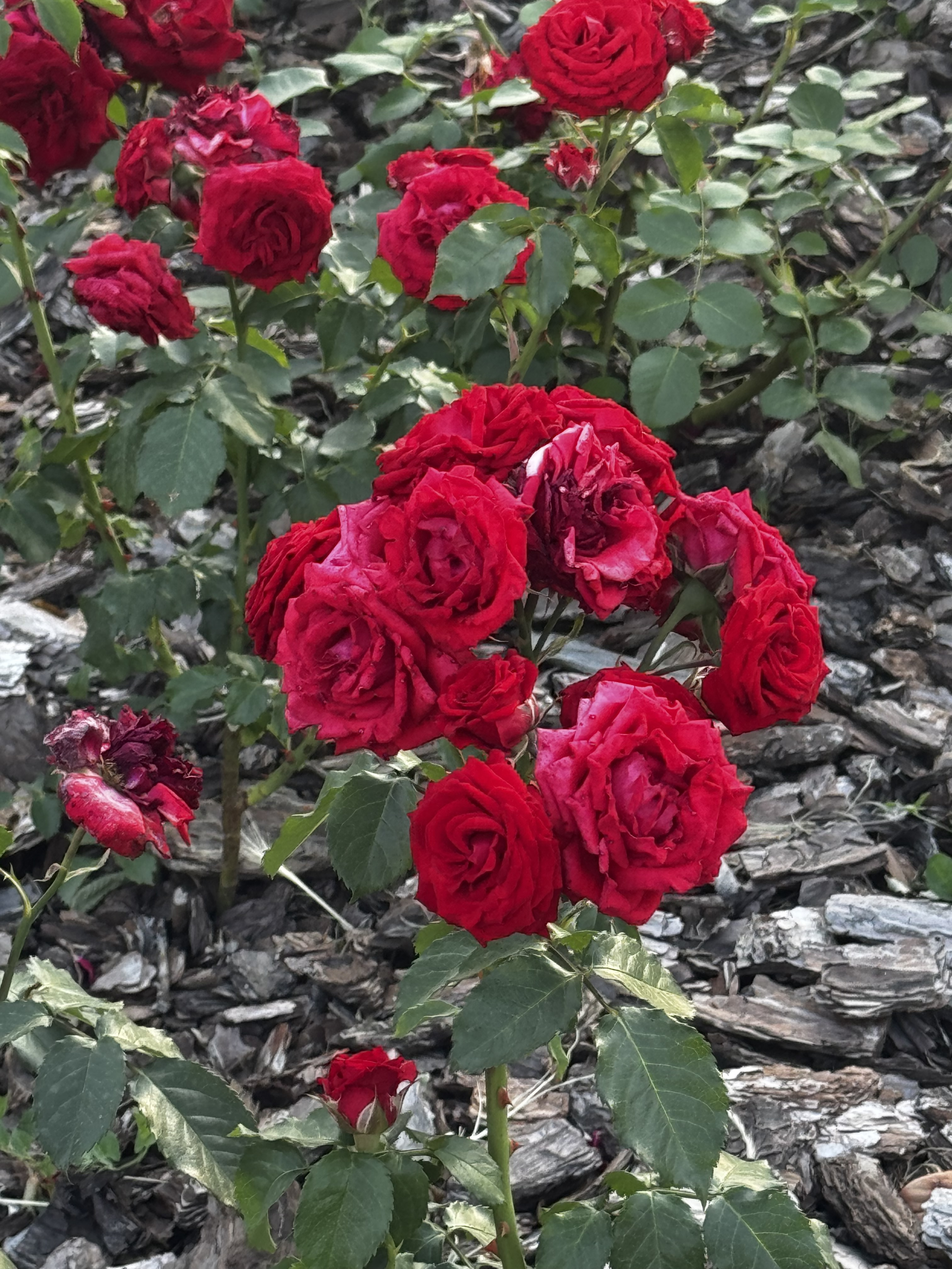rose: (536, 676, 735, 922), (391, 764, 567, 947), (291, 558, 440, 757), (107, 90, 308, 231), (517, 421, 661, 610), (374, 469, 533, 640), (372, 156, 532, 306), (365, 381, 554, 486), (237, 501, 357, 659), (188, 165, 336, 293), (665, 475, 804, 606), (511, 5, 678, 114), (710, 584, 832, 723), (402, 642, 541, 761), (0, 24, 107, 174), (71, 234, 205, 347), (113, 0, 257, 95), (310, 1043, 417, 1133)
